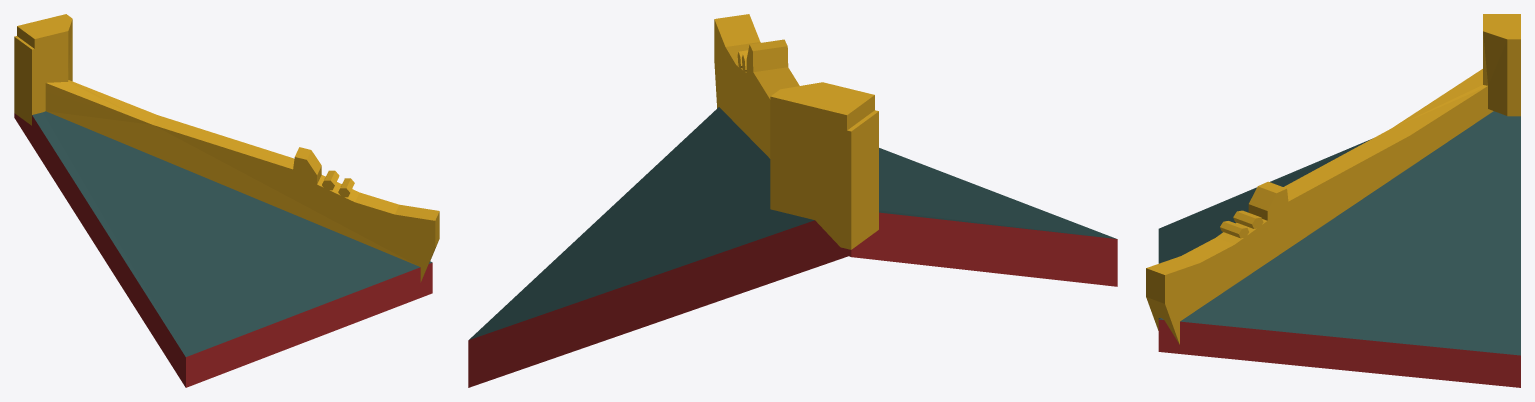
Rendered from Asian_Prop_Building_Modular_Roof_Corner_Simple_01.FBX.
The picture shows the model from 3 angles, left to right: view 1: azimuth 30°, elevation 25°; view 2: azimuth 150°, elevation 25°; view 3: azimuth 270°, elevation 25°; orthographic projection. The views are drawn at different scales.
Visible parts, largest first — view 1: Asian_Prop_Building_Modular_Roof_Corner_Simple_01; view 2: Asian_Prop_Building_Modular_Roof_Corner_Simple_01; view 3: Asian_Prop_Building_Modular_Roof_Corner_Simple_01.
Boxes of the visible parts, <box> form: Asian_Prop_Building_Modular_Roof_Corner_Simple_01: <box>14,14,439,387</box>; Asian_Prop_Building_Modular_Roof_Corner_Simple_01: <box>468,14,1117,387</box>; Asian_Prop_Building_Modular_Roof_Corner_Simple_01: <box>1146,14,1520,387</box>.
Size of the model in its own units: 3386 by 2967 by 4054.
